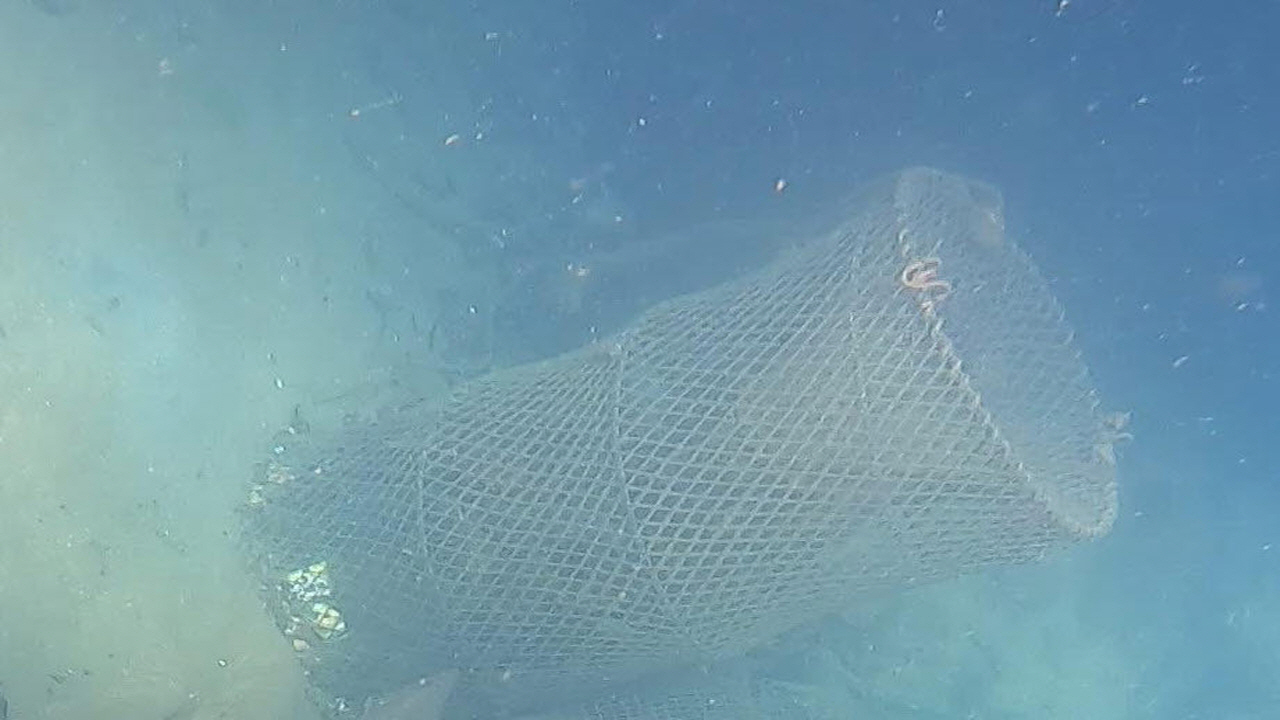spring fish trap: (240, 162, 1122, 715)
